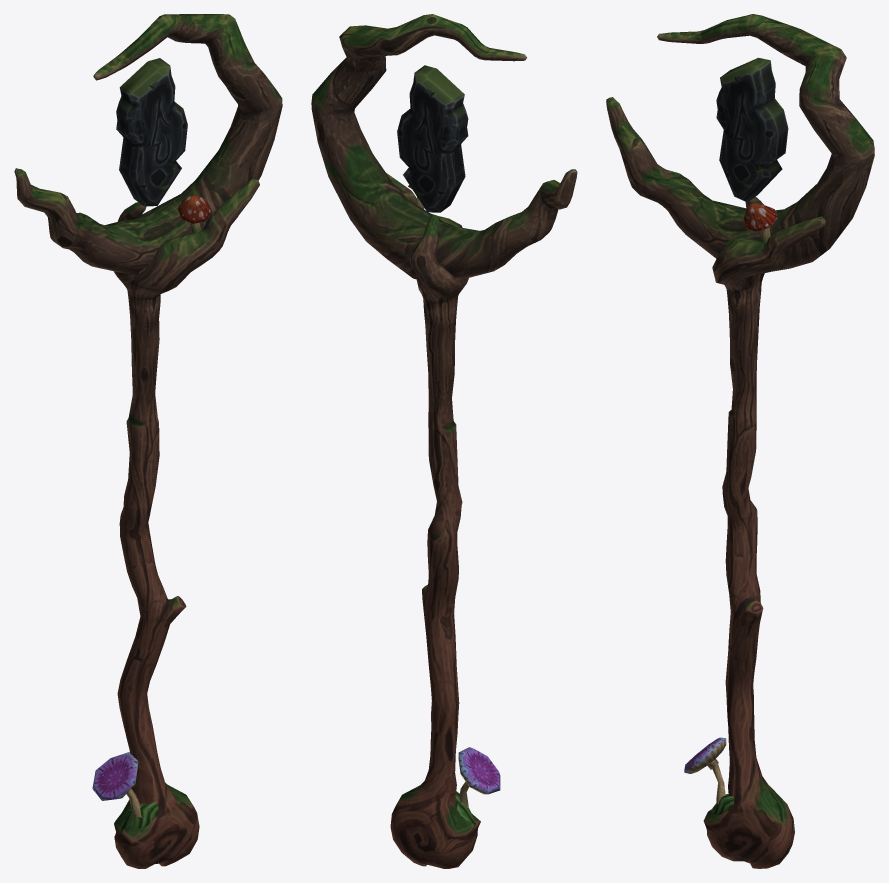
Rendered from Staff4_2_1.fbx.
The picture shows the model from 3 angles, left to right: view 1: azimuth 30°, elevation 25°; view 2: azimuth 150°, elevation 25°; view 3: azimuth 330°, elevation 25°; orthographic projection.
Visible parts, largest first — view 1: Staff4_2_1; view 2: Staff4_2_1; view 3: Staff4_2_1.
Boxes of the visible parts, <box> form: Staff4_2_1: <box>14,14,282,868</box>; Staff4_2_1: <box>311,14,577,868</box>; Staff4_2_1: <box>606,14,874,868</box>.
Size of the model in its own units: 38.78 by 119 by 12.77.
